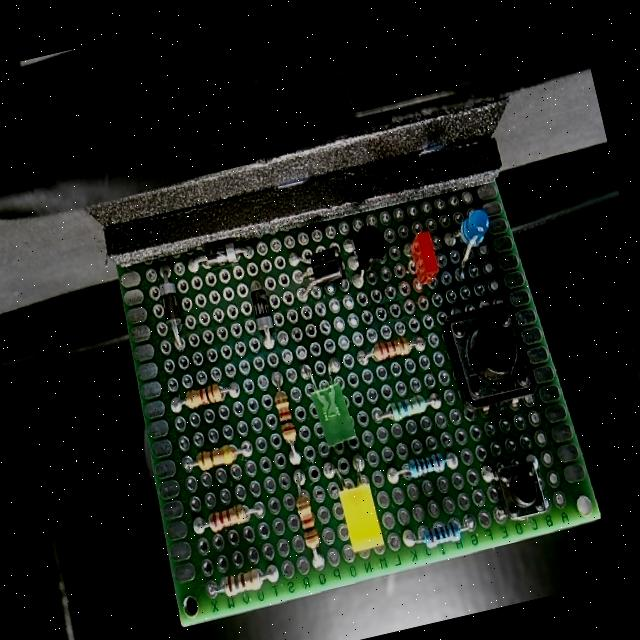diode: (152, 276, 186, 330), (246, 282, 278, 336), (199, 235, 241, 268)
led: (337, 478, 388, 556), (308, 378, 360, 451), (404, 229, 444, 291), (452, 203, 496, 256)
resistor: (380, 388, 432, 428), (216, 564, 266, 600), (402, 444, 449, 482), (293, 493, 322, 552), (193, 440, 240, 476), (271, 389, 300, 447), (416, 516, 464, 551), (180, 378, 228, 412), (368, 332, 414, 366), (204, 504, 252, 534)
switch: (438, 299, 540, 412), (491, 458, 551, 526)
transistor: (302, 240, 350, 295), (348, 221, 393, 274)
